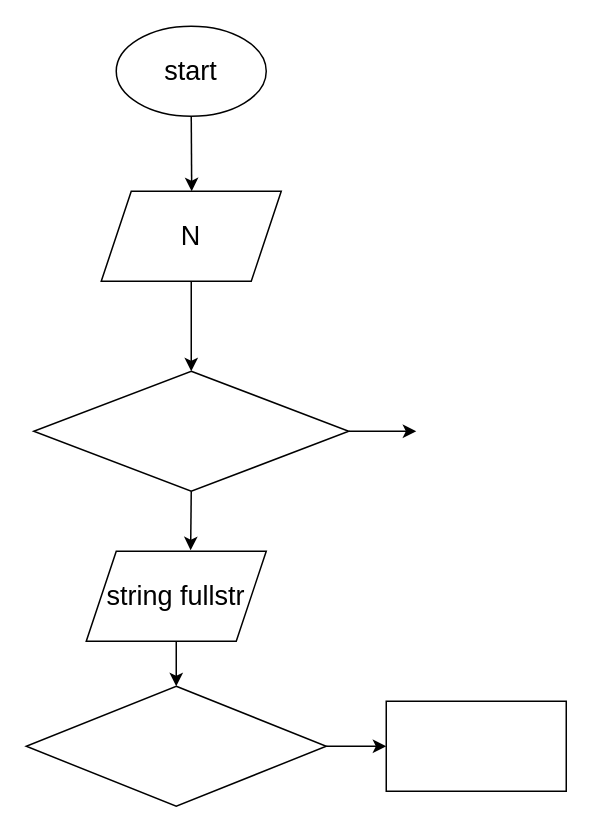
This 593x833 diagram has some shape labels left out. Each missing label, with the centre of its shape:
if fullstr.length > 3: (175,745)
int i <= N: (190,430)
